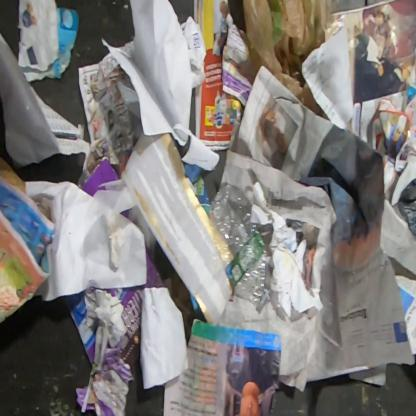cardboard: (99, 239, 167, 370), (60, 287, 102, 367), (80, 157, 121, 199)
rigid_plastic: (209, 184, 272, 314)
soft_plastic: (242, 0, 344, 122)
